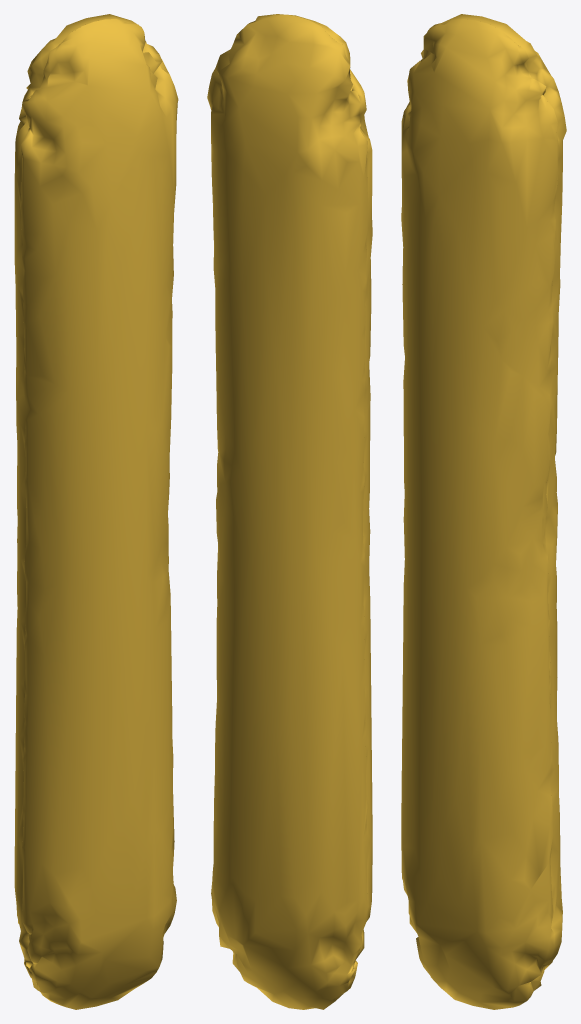
Rendered from ballon I.fbx.
The picture shows the model from 3 angles, left to right: view 1: azimuth 30°, elevation 25°; view 2: azimuth 150°, elevation 25°; view 3: azimuth 330°, elevation 25°; orthographic projection.
Parts seen in each view (by area): view 1: Text; view 2: Text; view 3: Text.
Boxes of the visible parts, <box> form: Text: <box>14,14,178,1009</box>; Text: <box>207,14,372,1009</box>; Text: <box>401,14,566,1009</box>.
Bounding box in the file's own units: 10.39 × 62.73 × 7.99.
